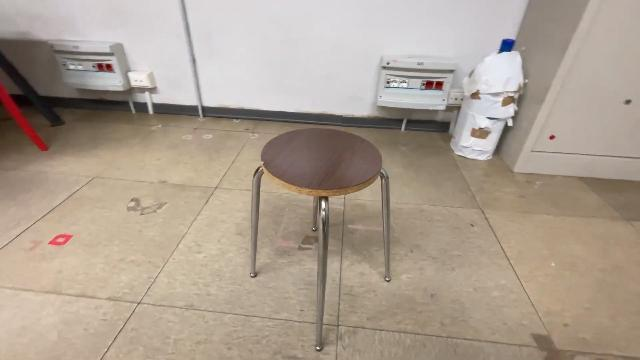Stool: (240, 123, 396, 355)
